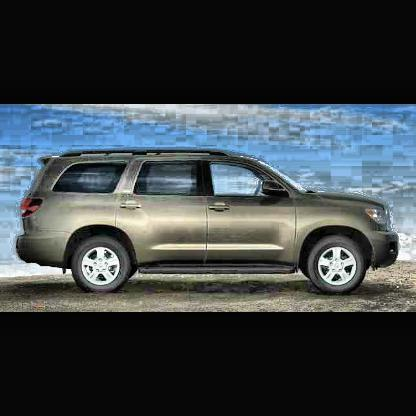Toyota Sequoia SUV 2012: (14, 148, 400, 297)
